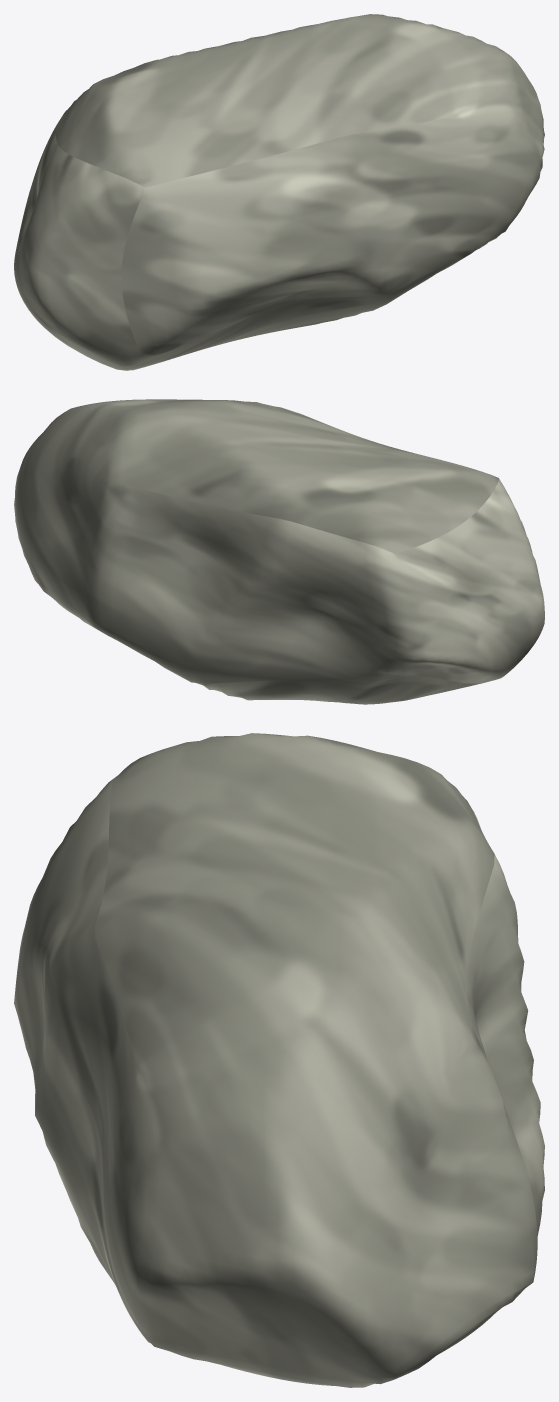
The model's file is Rock1.fbx.
The picture shows the model from 3 angles, top to bottom: view 1: azimuth 30°, elevation 25°; view 2: azimuth 150°, elevation 25°; view 3: azimuth 270°, elevation 25°; orthographic projection. The views are drawn at different scales.
Visible parts, largest first — view 1: Cube; view 2: Cube; view 3: Cube.
Boxes of the visible parts, left/top/right/bottom form: Cube: left=14, top=14, right=544, bottom=370; Cube: left=14, top=399, right=544, bottom=704; Cube: left=14, top=733, right=544, bottom=1387.
Bounding box in the file's own units: 200 × 100 × 100.
Materials: 1 (1 with a texture image).
